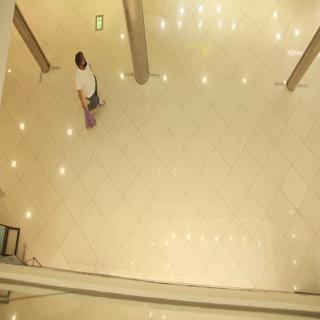person: (67, 47, 110, 127)
